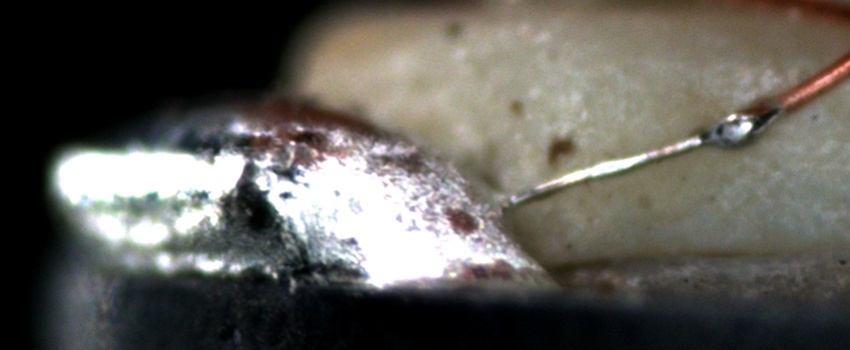TB: (698, 99, 782, 155)
TS: (502, 103, 785, 208)
TTCW: (503, 78, 816, 213)
